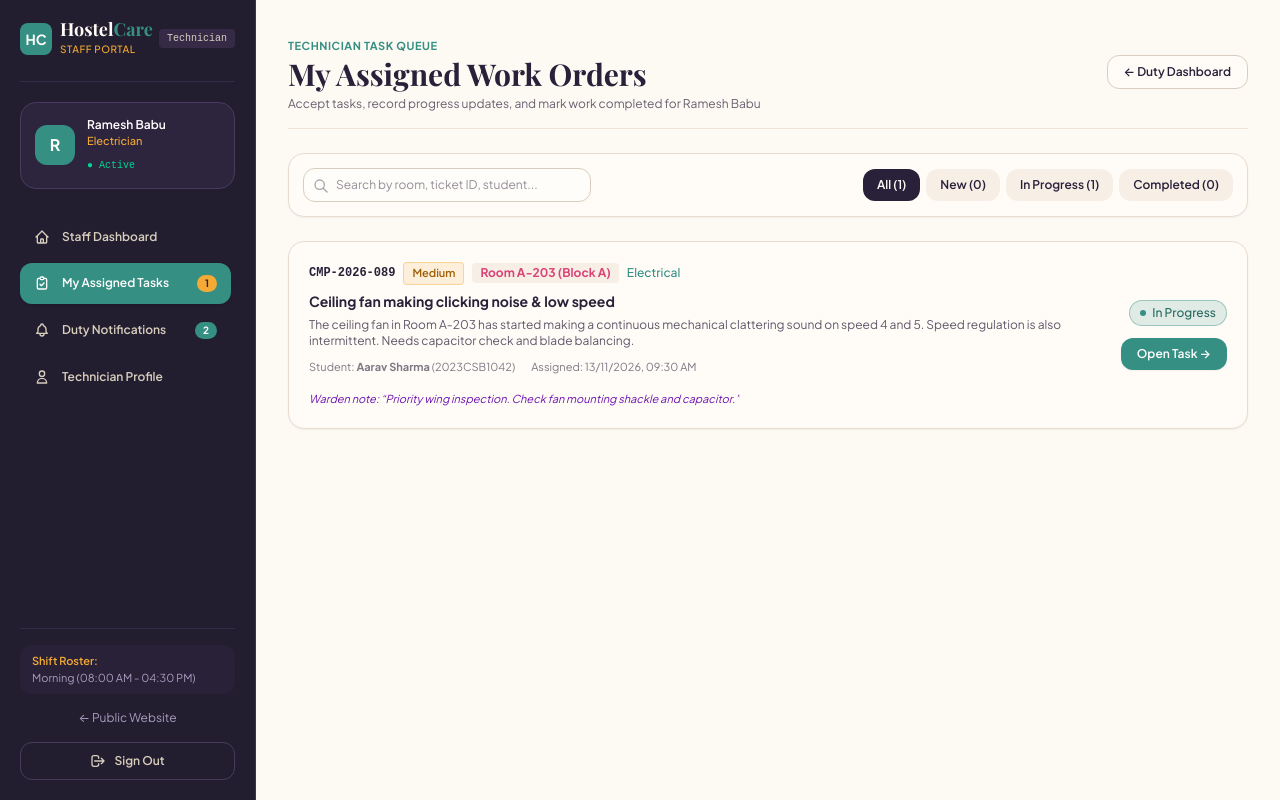
Test: HostelCare Multi-Page Application & Phase 3C Authentication › renders staff task detail view and allows completing work with mandatory note
Check: the heading "My Assigned Work Orders" is shown, box [288,54,647,94]
Note: Open first task
Click the button "Open Task →" at (1174, 354), box [1121,338,1227,370]
(page scrolled)
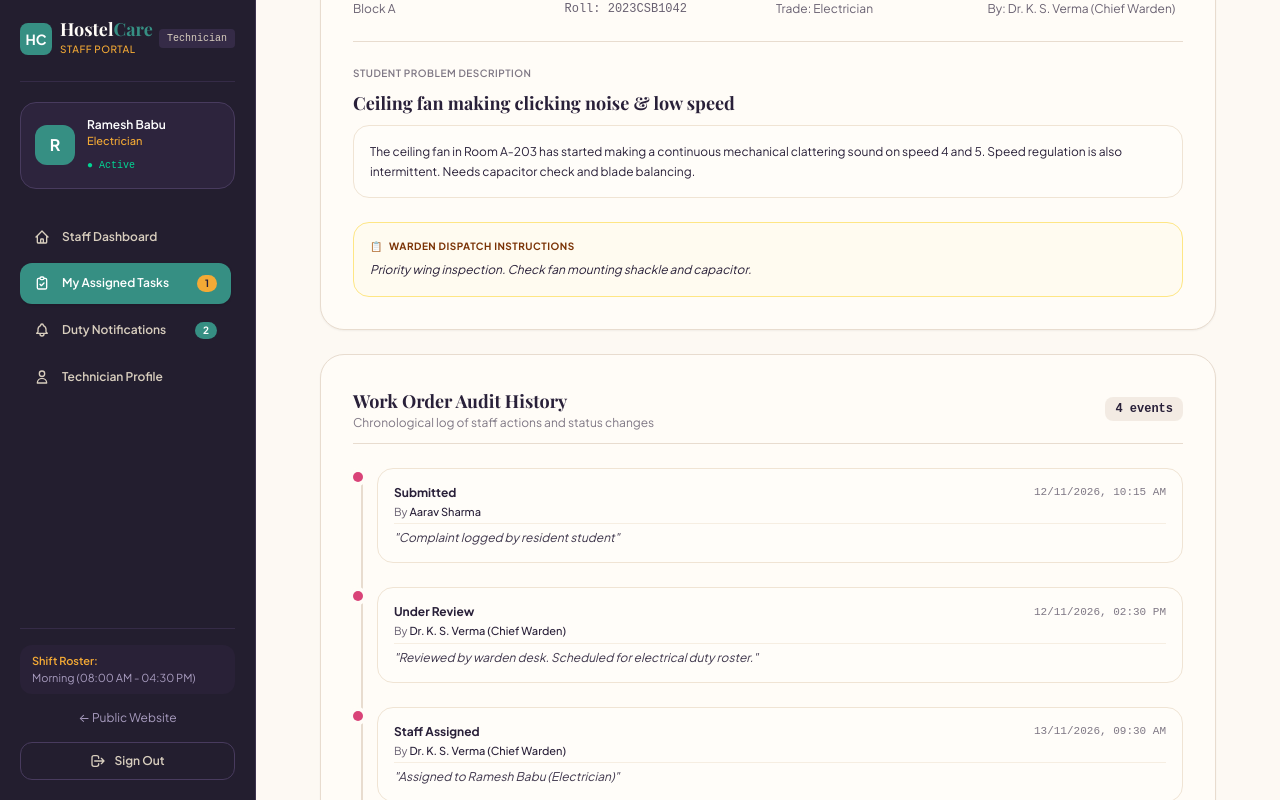
Check: the text "Student Problem Description" is shown, box [353,67,532,79]
Check: the heading "Work Order Audit History" is shown, box [353,388,567,412]
